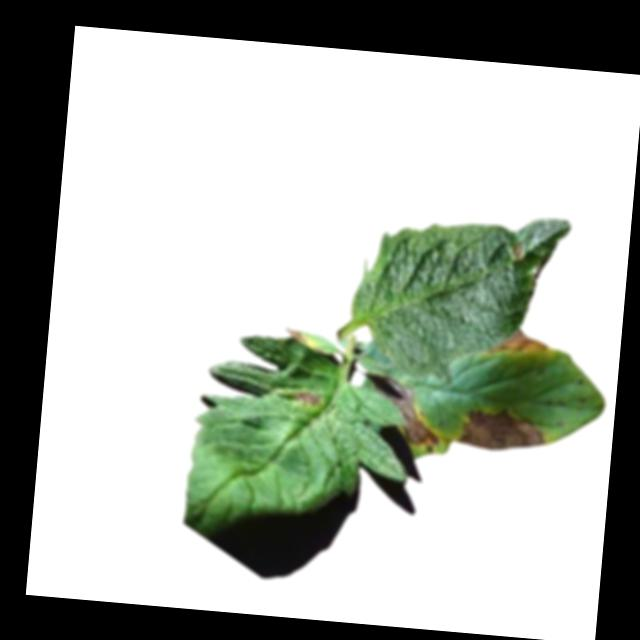Early_blight: (363, 372, 445, 455), (457, 403, 555, 456), (485, 325, 553, 359), (293, 387, 321, 408), (282, 325, 309, 345), (511, 242, 527, 260)
